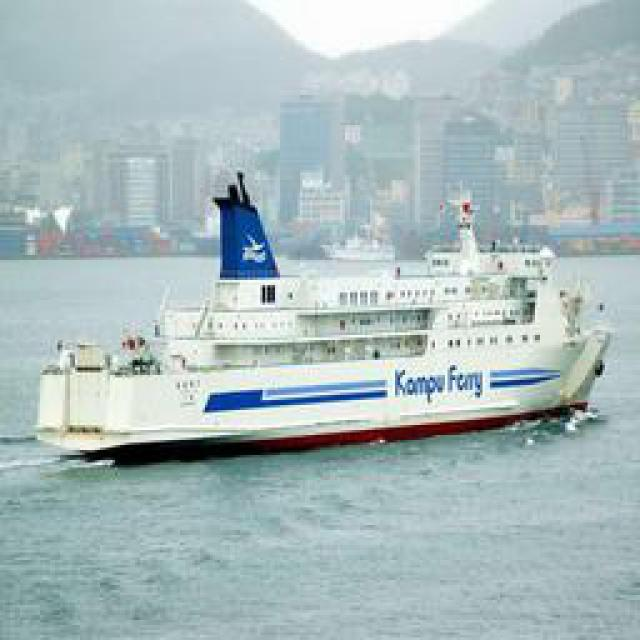Ship: (36, 169, 614, 452)
